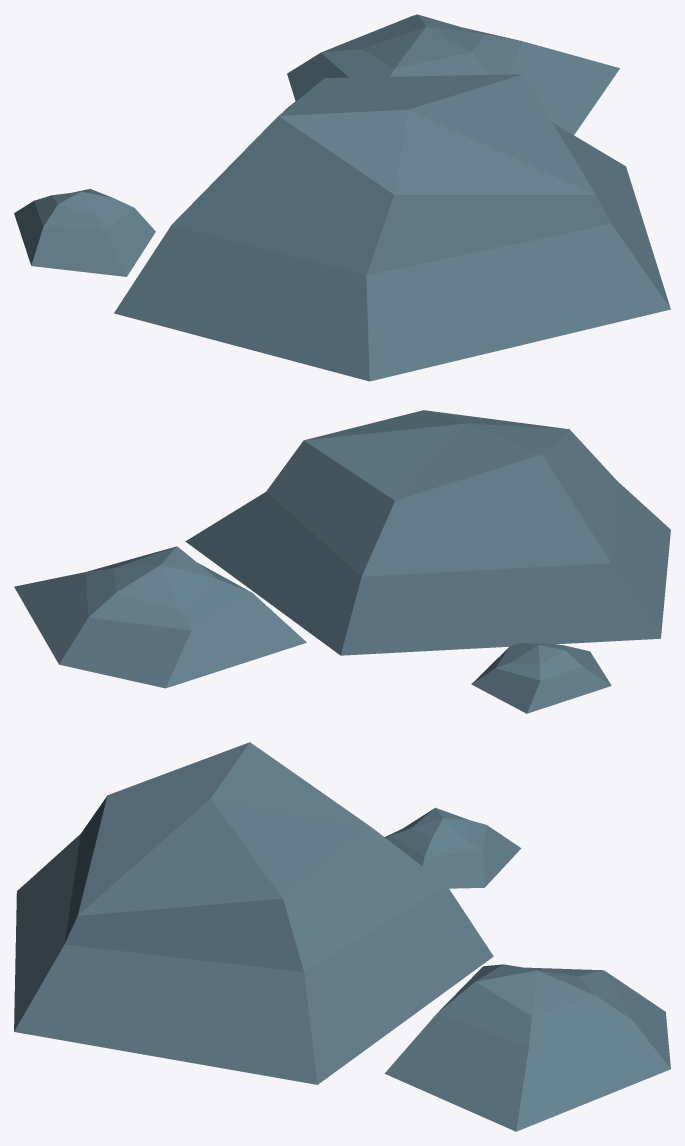
The model's file is Rocks_1.glb.
3 views of the same model, one above another, from view 1: azimuth 30°, elevation 25°; view 2: azimuth 150°, elevation 25°; view 3: azimuth 270°, elevation 25° (orthographic). The views are drawn at different scales.
Visible parts, largest first — view 1: Sphere.001; view 2: Sphere.001; view 3: Sphere.001.
Boxes of the visible parts, x1,y1,x2,y2 form: Sphere.001: (14, 14, 670, 381); Sphere.001: (14, 410, 670, 713); Sphere.001: (14, 742, 670, 1131).
Size of the model in its own units: 3.3 by 0.8362 by 3.03.
